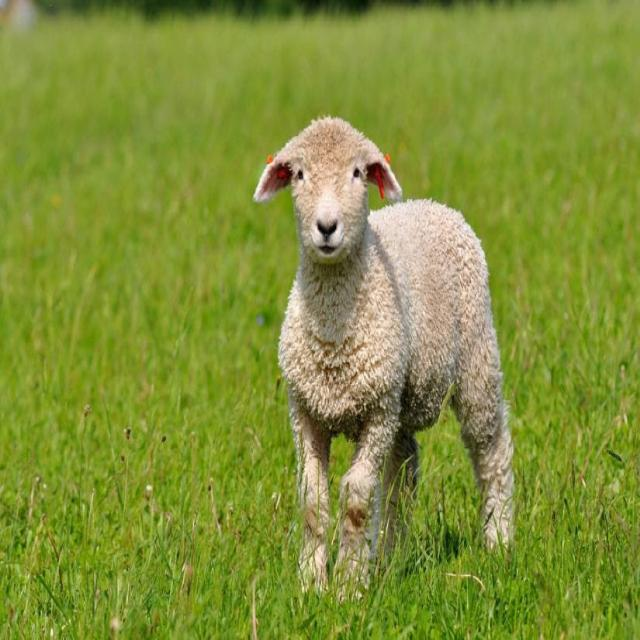Boar: (251, 113, 516, 605)
